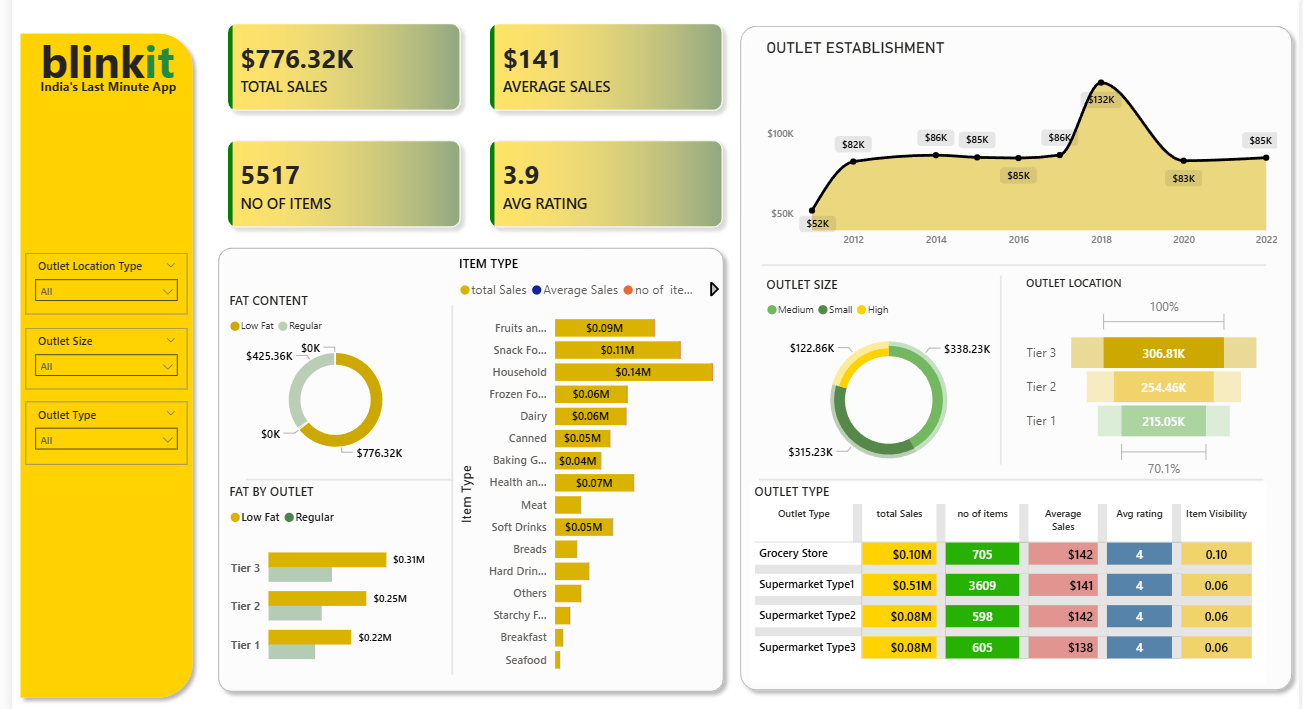

This screenshot's page, from the dashboard's own definition file:
{"tool":"powerbi","page":{"name":"Page 1","canvas":[1400,800],"ordinal":0},"visuals":[{"type":"shape","box":[0,48.9,205.4,740.2],"z":0},{"type":"textbox","box":[26.1,48.9,205.4,70.1],"z":1000},{"type":"textbox","box":[640.9,503.5,205.4,124.2],"z":2000},{"type":"textbox","box":[894.3,611.1,225.2,102.7],"z":3000},{"type":"textbox","box":[274.9,29.8,205.4,39.7],"z":4000},{"type":"textbox","box":[26.1,101.1,172.8,34.2],"z":5000},{"type":"cardVisual","fields":{"Data":["BlinkIT Grocery Data.total Sales","BlinkIT Grocery Data.Average Sales","BlinkIT Grocery Data.no of  items","BlinkIT Grocery Data.Avg rating"]},"box":[205.4,17.9,596.8,280.4],"z":6000},{"type":"shape","box":[215.2,282.1,567.4,500.6],"z":7000},{"type":"donutChart","title":"FAT CONTENT","fields":{"Y":["BlinkIT Grocery Data.total Sales","BlinkIT Grocery Data.Average Sales","BlinkIT Grocery Data.no of  items","BlinkIT Grocery Data.Avg rating"],"Category":["BlinkIT Grocery Data.Item Fat Content"]},"box":[231.5,339.1,239.7,189.1],"z":8000},{"type":"clusteredBarChart","title":"FAT BY OUTLET","fields":{"Y":["BlinkIT Grocery Data.total Sales"],"Category":["BlinkIT Grocery Data.Outlet Location Type"],"Series":["BlinkIT Grocery Data.Item Fat Content"]},"box":[231.5,546.2,221.7,215.2],"z":9000},{"type":"shape","box":[255,531.6,225.2,23.2],"z":10000},{"type":"shape","box":[454.9,353.8,47.3,401.1],"z":11000},{"type":"barChart","title":"ITEM TYPE","fields":{"Y":["BlinkIT Grocery Data.total Sales","BlinkIT Grocery Data.Average Sales","BlinkIT Grocery Data.no of  items","BlinkIT Grocery Data.Avg rating"],"Category":["BlinkIT Grocery Data.Item Type"]},"box":[481,298.4,301.6,464.7],"z":12000},{"type":"shape","box":[782.6,40.8,617.9,740.2],"z":13000},{"type":"lineChart","title":"OUTLET ESTABLISHMENT ","fields":{"Y":["BlinkIT Grocery Data.total Sales"],"Category":["BlinkIT Grocery Data.Outlet Establishment Year"]},"box":[814.8,62.9,564.8,235.2],"z":14000},{"type":"shape","box":[814.8,298.1,548.2,23.2],"z":15000},{"type":"donutChart","title":"OUTLET SIZE","fields":{"Y":["BlinkIT Grocery Data.total Sales"],"Category":["BlinkIT Grocery Data.Outlet Size"]},"box":[814.8,321.3,274.9,225.2],"z":16000},{"type":"shape","box":[1051.7,321.3,46.4,205.4],"z":17000},{"type":"funnel","title":"OUTLET LOCATION","fields":{"Y":["Sum(BlinkIT Grocery Data.Sales)"],"Category":["BlinkIT Grocery Data.Outlet Location Type"]},"box":[1098,321.3,265,225.2],"z":18000},{"type":"shape","box":[811.5,531.6,548.2,23.2],"z":19000},{"type":"pivotTable","title":"OUTLET TYPE","fields":{"Rows":["BlinkIT Grocery Data.Outlet Type"],"Values":["BlinkIT Grocery Data.total Sales","BlinkIT Grocery Data.no of  items","BlinkIT Grocery Data.Average Sales","BlinkIT Grocery Data.Avg rating","Avg(BlinkIT Grocery Data.Item Visibility)"]},"box":[801.6,546.5,561.4,218.6],"z":20000},{"type":"slicer","fields":{"Values":["BlinkIT Grocery Data.Outlet Location Type"]},"box":[14.7,296.7,176.1,66.8],"z":21000},{"type":"slicer","fields":{"Values":["BlinkIT Grocery Data.Outlet Size"]},"box":[14.7,378.3,176.1,66.8],"z":22000},{"type":"slicer","fields":{"Values":["BlinkIT Grocery Data.Outlet Type"]},"box":[14.7,458.2,176.1,68.5],"z":23000}]}

Visuals, with their boxes on the page's 1400x800 design canvas (x1, y1, x2, y2). These are canvas units, not pixel positions in the 1303x709 screenshot, which may show the page scaled, cropped or inside an application window:
shape: crop(0, 49, 205, 789)
textbox: crop(26, 49, 232, 119)
textbox: crop(641, 504, 846, 628)
textbox: crop(894, 611, 1120, 714)
textbox: crop(275, 30, 480, 70)
textbox: crop(26, 101, 199, 135)
cardVisual - BlinkIT Grocery Data.total Sales x BlinkIT Grocery Data.Average Sales: crop(205, 18, 802, 298)
shape: crop(215, 282, 783, 783)
"FAT CONTENT" donutChart: crop(232, 339, 471, 528)
"FAT BY OUTLET" clusteredBarChart: crop(232, 546, 453, 761)
shape: crop(255, 532, 480, 555)
shape: crop(455, 354, 502, 755)
"ITEM TYPE" barChart: crop(481, 298, 783, 763)
shape: crop(783, 41, 1400, 781)
"OUTLET ESTABLISHMENT " lineChart: crop(815, 63, 1380, 298)
shape: crop(815, 298, 1363, 321)
"OUTLET SIZE" donutChart: crop(815, 321, 1090, 546)
shape: crop(1052, 321, 1098, 527)
"OUTLET LOCATION" funnel: crop(1098, 321, 1363, 546)
shape: crop(812, 532, 1360, 555)
"OUTLET TYPE" pivotTable: crop(802, 546, 1363, 765)
slicer - BlinkIT Grocery Data.Outlet Location Type: crop(15, 297, 191, 364)
slicer - BlinkIT Grocery Data.Outlet Size: crop(15, 378, 191, 445)
slicer - BlinkIT Grocery Data.Outlet Type: crop(15, 458, 191, 527)
